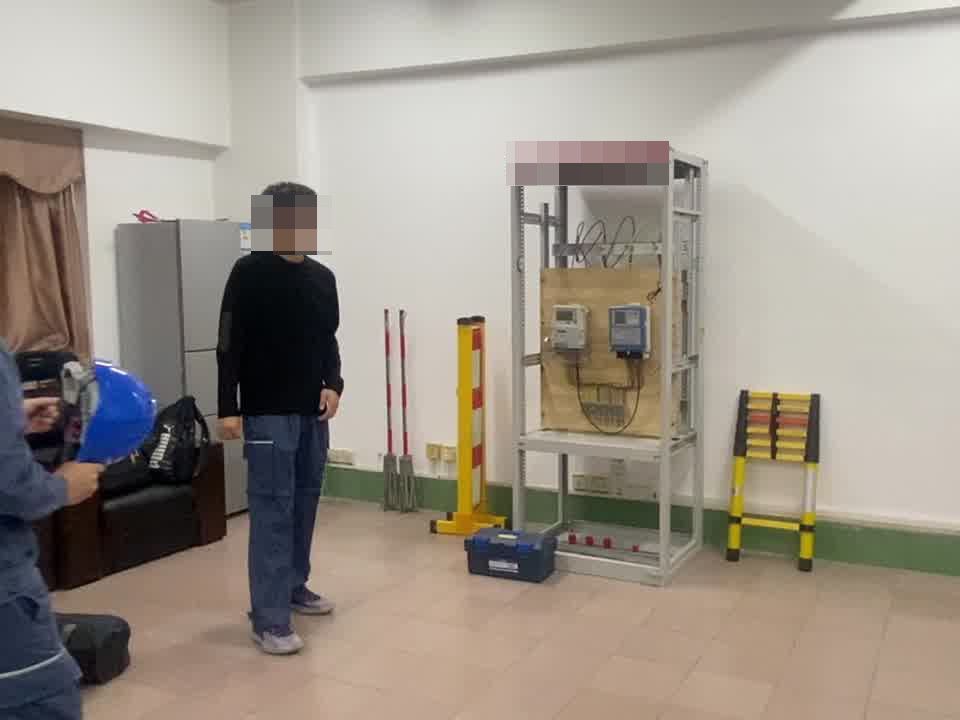downsuit: (243, 417, 333, 626)
hand: (52, 460, 104, 508), (21, 394, 63, 437), (317, 387, 344, 424), (218, 414, 250, 437)
noear: (260, 210, 285, 243)
person: (211, 180, 353, 649), (1, 288, 144, 720)
unhalt: (254, 182, 327, 257)
upcloth: (217, 253, 344, 411)
upsuit: (1, 344, 71, 673)
